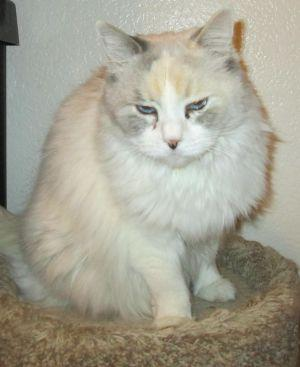ragdoll: (84, 10, 265, 183)
